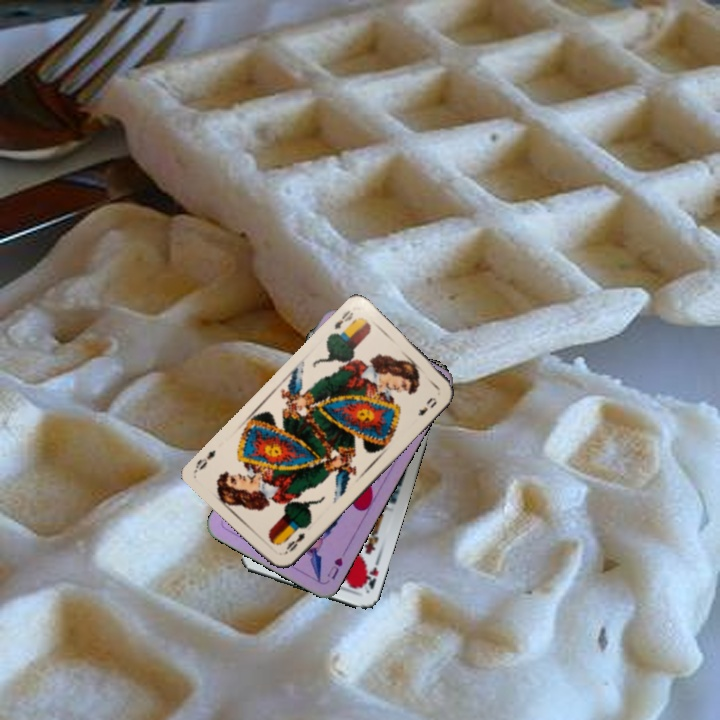EO: (280, 528, 308, 557), (330, 306, 356, 332)
HK: (357, 555, 383, 595)
HU: (323, 553, 345, 582)
